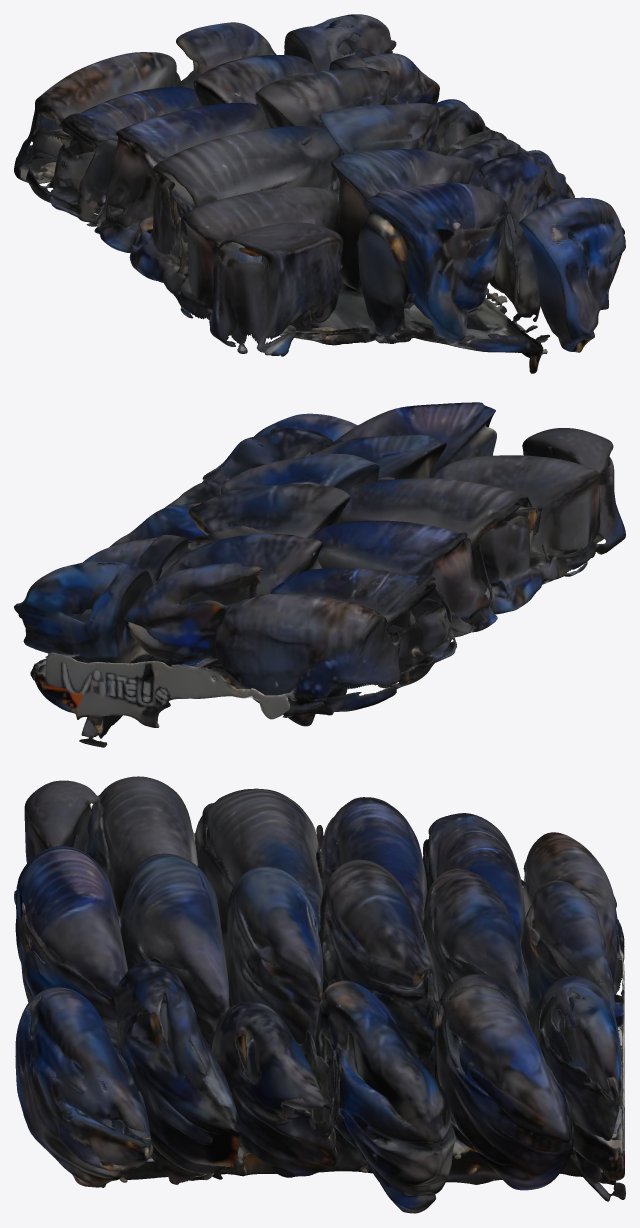
File: mussel_bed_f.glb
3 views of the same model, one above another, from view 1: azimuth 30°, elevation 25°; view 2: azimuth 150°, elevation 25°; view 3: azimuth 270°, elevation 25° (orthographic). The views are drawn at different scales.
Parts seen in each view (by area): view 1: tripo_node_835126d1-877f-4828-abf3-53fd1fdff2d2; view 2: tripo_node_835126d1-877f-4828-abf3-53fd1fdff2d2; view 3: tripo_node_835126d1-877f-4828-abf3-53fd1fdff2d2.
Boxes of the visible parts, x1,y1,x2,y2 form: tripo_node_835126d1-877f-4828-abf3-53fd1fdff2d2: (14, 14, 625, 373); tripo_node_835126d1-877f-4828-abf3-53fd1fdff2d2: (14, 402, 625, 747); tripo_node_835126d1-877f-4828-abf3-53fd1fdff2d2: (14, 776, 625, 1213).
Size of the model in its own units: 0.926 by 0.4581 by 1.
Materials: 1 (1 with a texture image).
